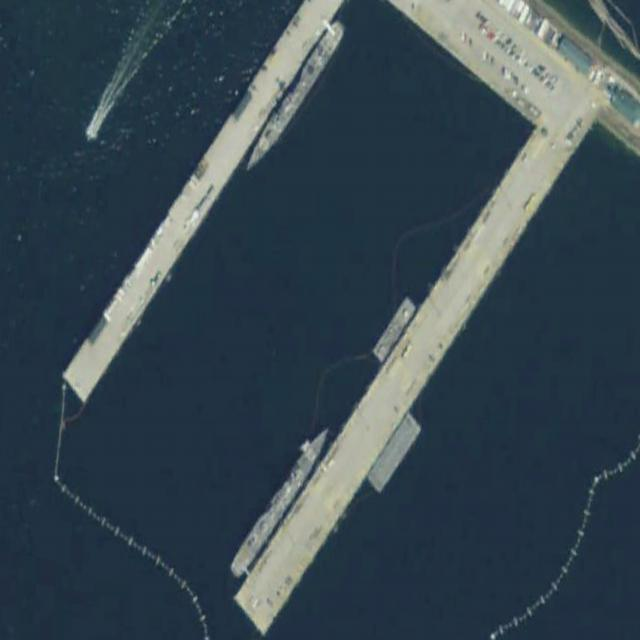Other Warship: (227, 420, 334, 582), (241, 17, 346, 176)
